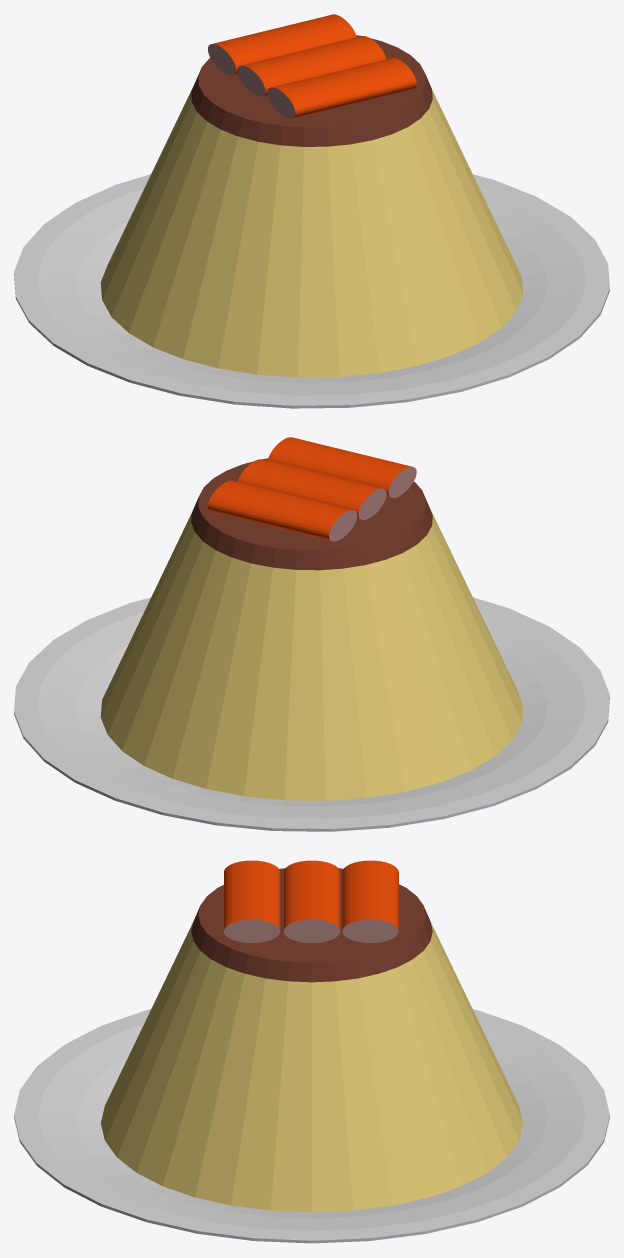
Rendered from KanikamaPurin.fbx.
3 renders of one model, top to bottom at view 1: azimuth 30°, elevation 25°; view 2: azimuth 150°, elevation 25°; view 3: azimuth 270°, elevation 25°, orthographic.
Parts seen in each view (by area): view 1: Cylinder.003, Circle.001, Cylinder.002, Cylinder, Cylinder.001; view 2: Cylinder.003, Circle.001, Cylinder.001, Cylinder.002, Cylinder; view 3: Cylinder.003, Circle.001, Cylinder, Cylinder.002, Cylinder.001.
Boxes of the visible parts, box(x1,y1,x2,y2) form: Cylinder.003: box(100, 35, 523, 377); Circle.001: box(14, 174, 609, 408); Cylinder.002: box(267, 58, 416, 118); Cylinder: box(237, 36, 386, 96); Cylinder.001: box(208, 14, 356, 75); Cylinder.003: box(100, 458, 523, 800); Circle.001: box(14, 597, 609, 831); Cylinder.001: box(208, 480, 357, 541); Cylinder.002: box(267, 437, 416, 497); Cylinder: box(238, 459, 386, 519); Cylinder.003: box(101, 868, 522, 1212); Circle.001: box(14, 1009, 609, 1243); Cylinder: box(283, 860, 340, 942); Cylinder.002: box(224, 860, 280, 942); Cylinder.001: box(342, 860, 398, 942).
Bounding box in the file's own units: 630 × 311 × 630.
